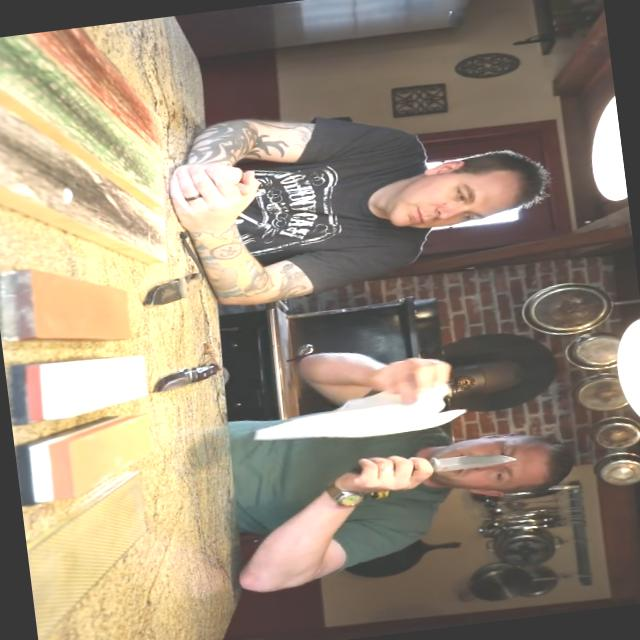knife: (382, 439, 528, 492)
